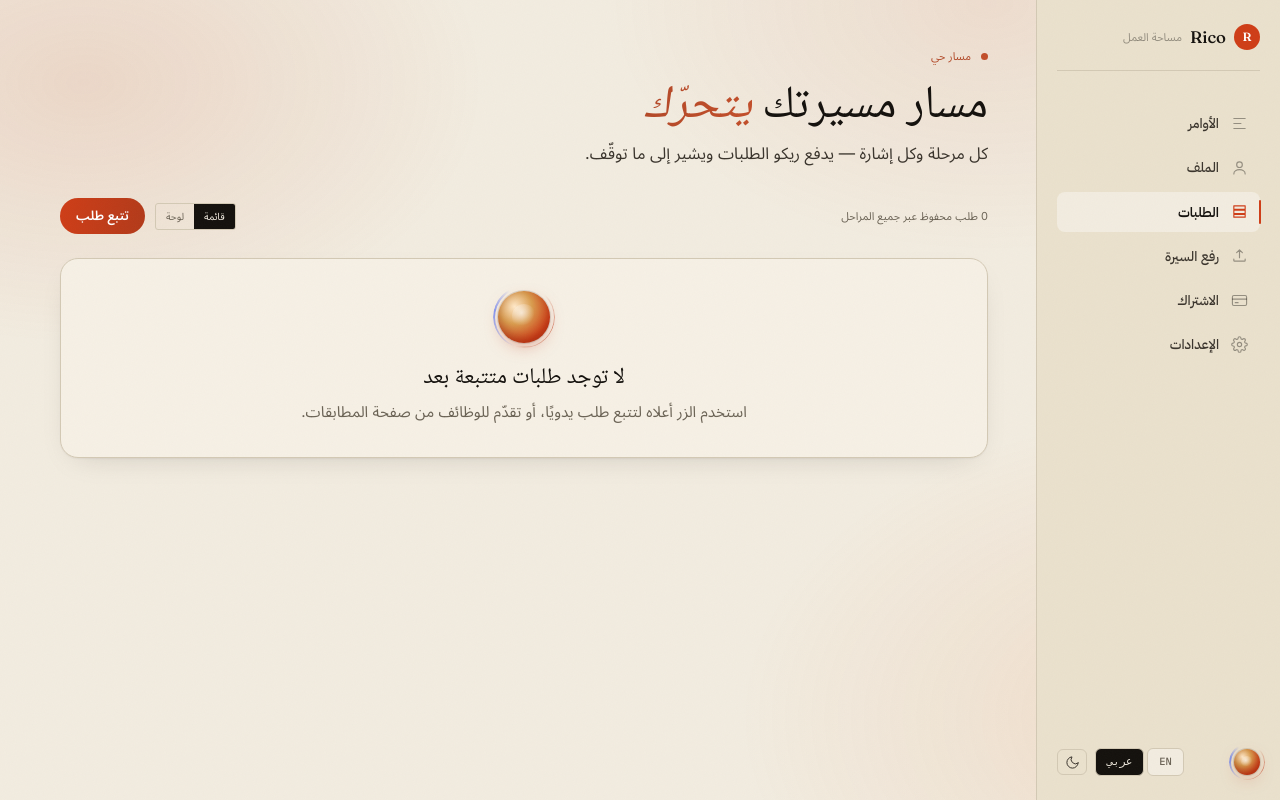
Test case: Flow Arabic / RTL localization › renders the modal labels and save button in Arabic
Click the button "تتبع طلب" at (102, 216), box [60,198,145,234]
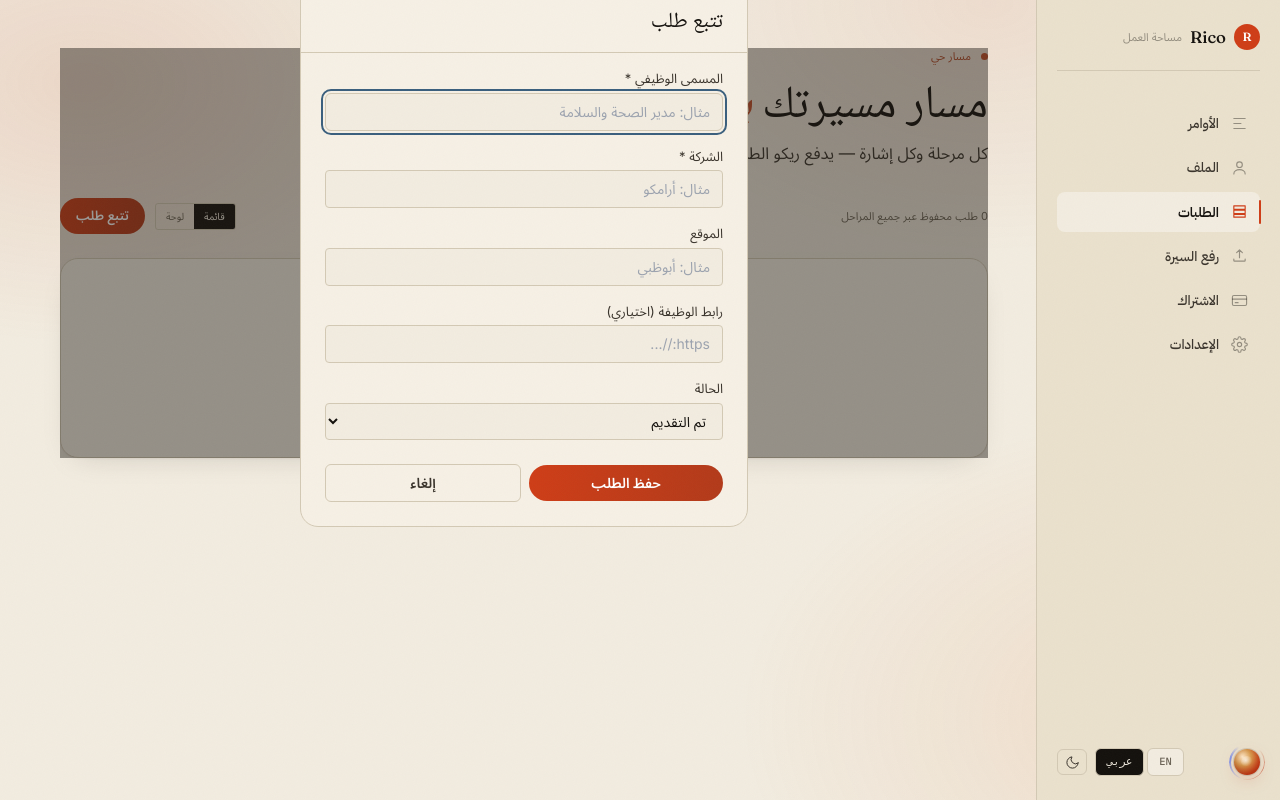
Expected: the dialog "تتبع طلب" is shown, [60,48,988,458]
Expected: the button "حفظ الطلب" is shown, [529,465,723,501]
Expected: the field labelled "المسمى الوظيفي *" is shown, [325,93,723,131]
